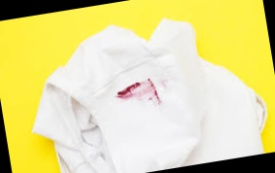lipstick: (114, 75, 162, 113)
